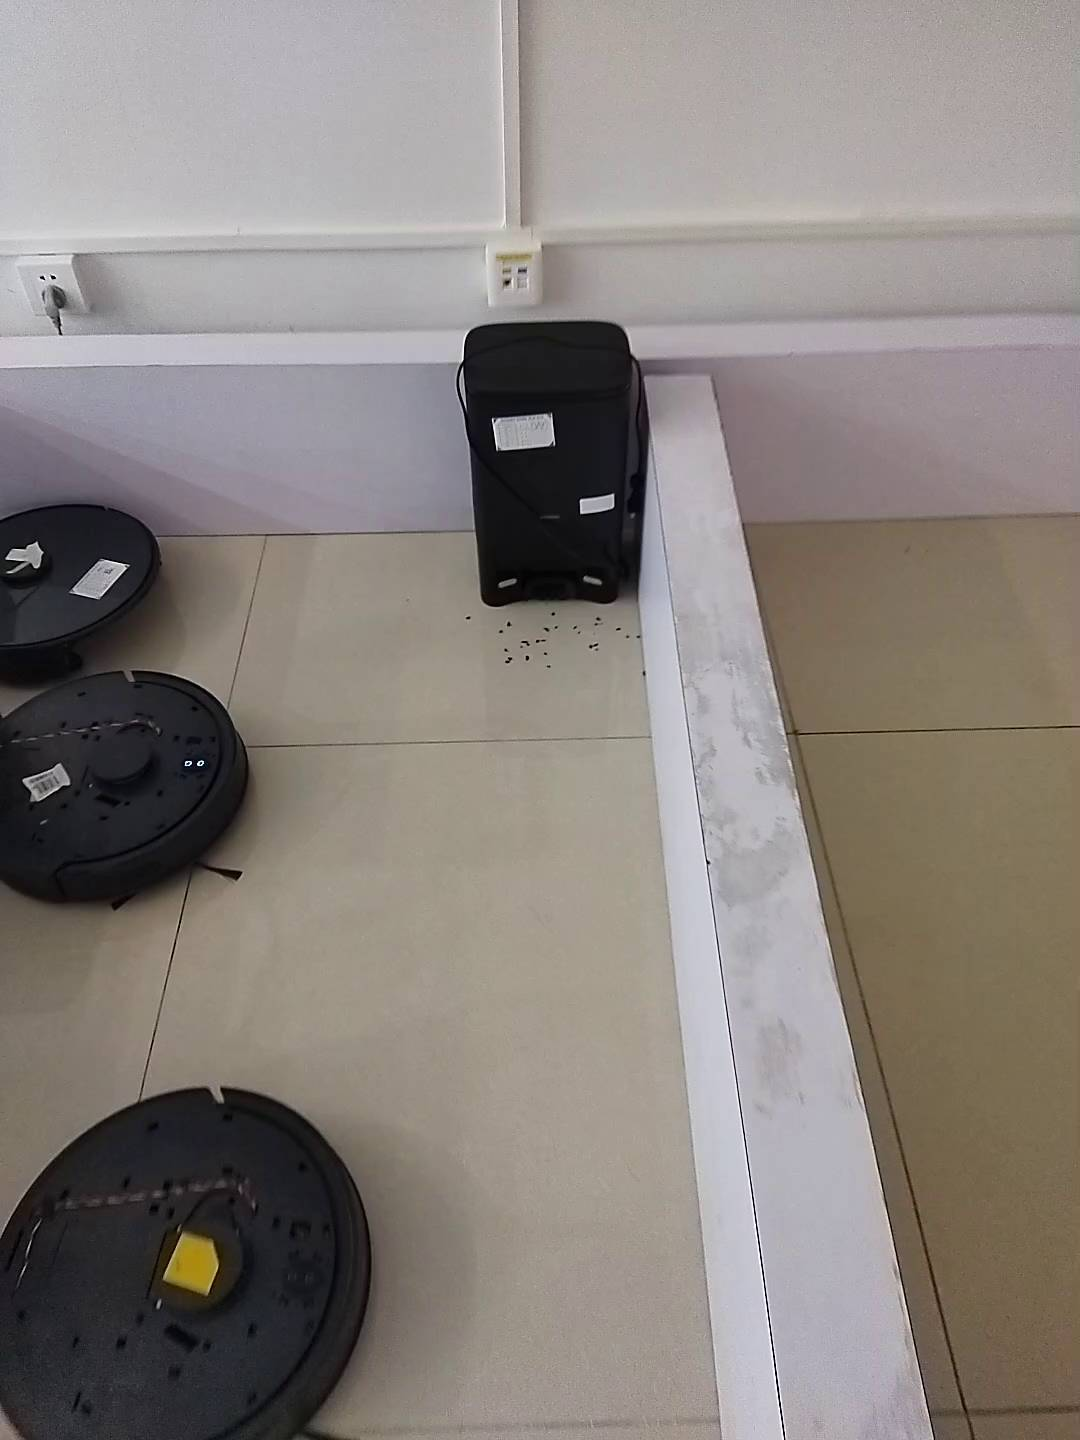dust collecting barrel: (464, 320, 641, 608)
